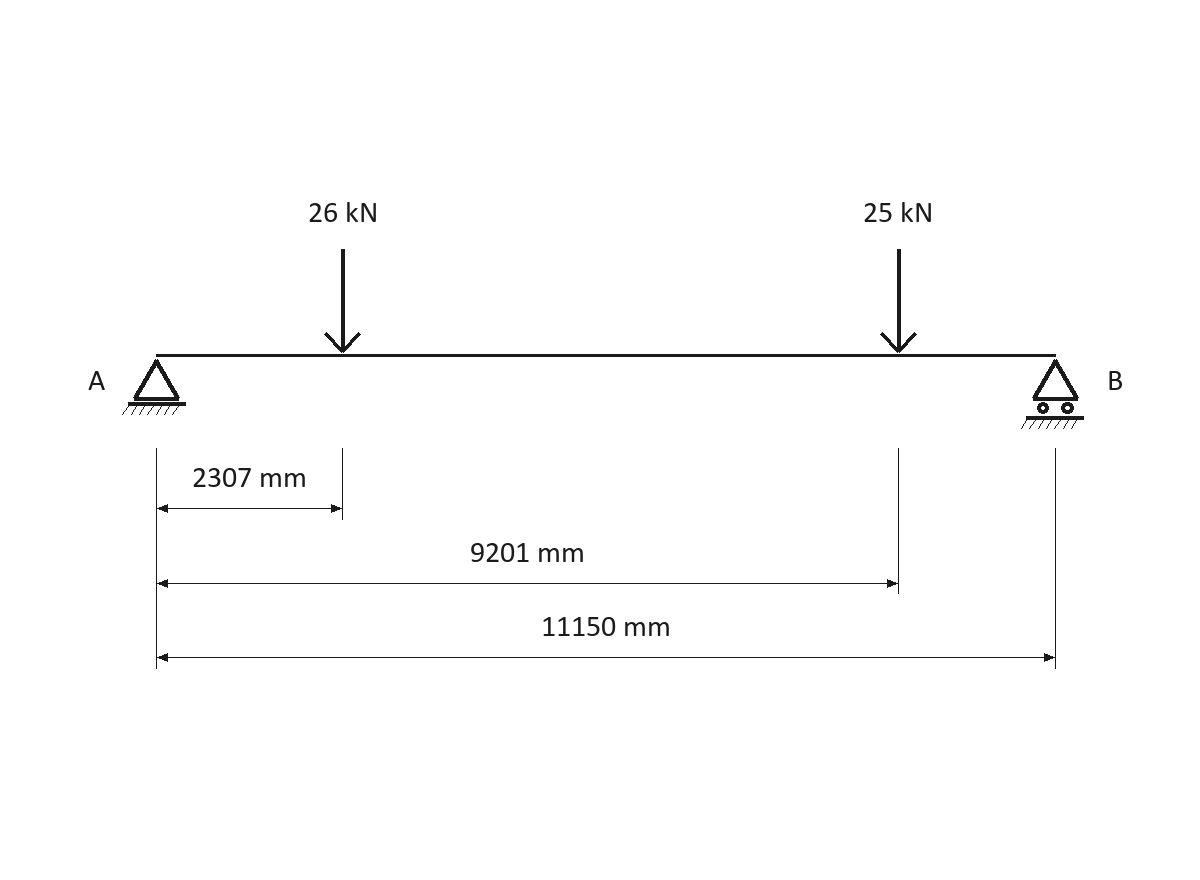pin_support: (122, 359, 186, 415)
point_load: (324, 249, 361, 353), (880, 249, 917, 353)
roller_support: (1021, 359, 1084, 429)
